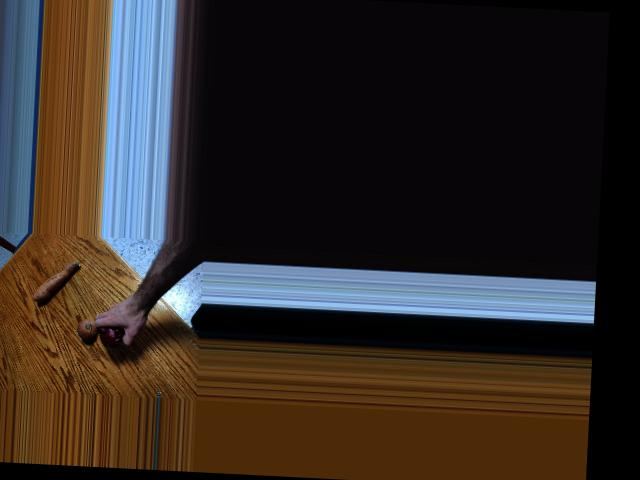onion: (75, 317, 100, 340)
